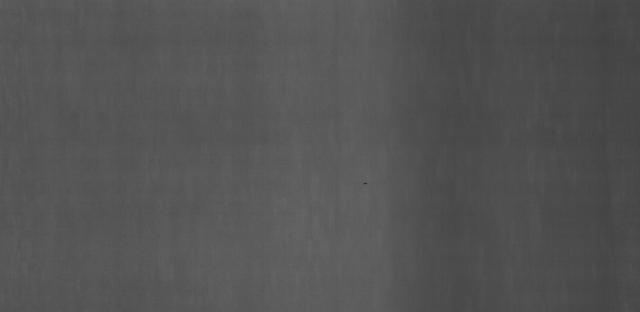inclusion: (354, 174, 379, 192)
